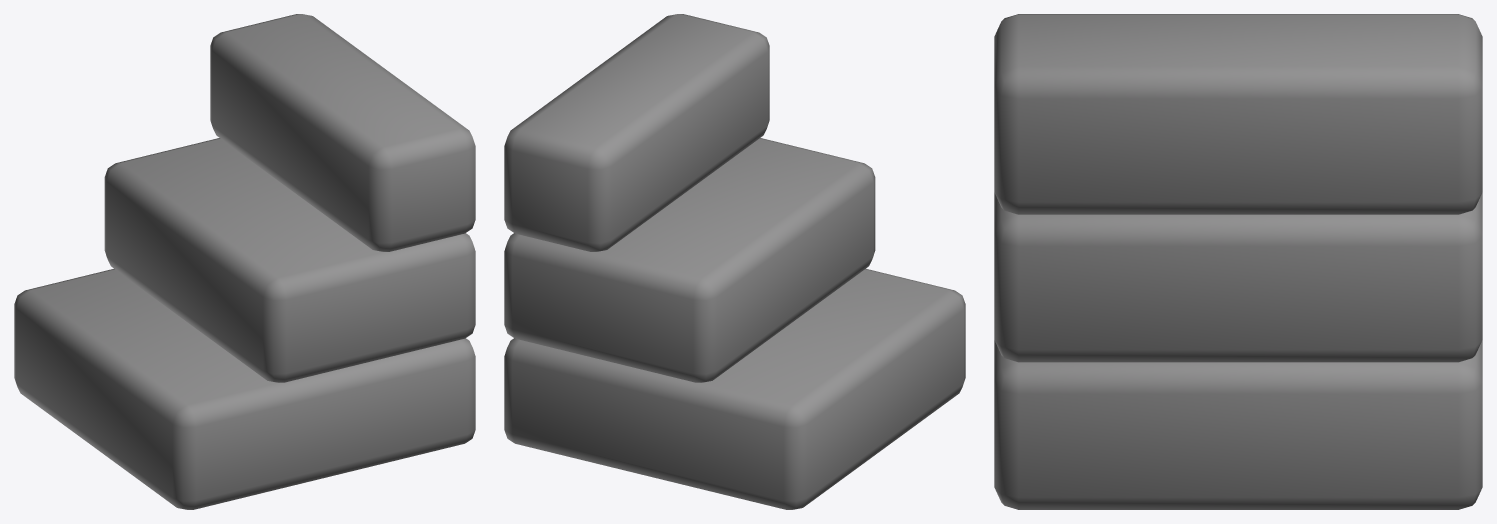
File: 3D_Tile_Dungeon_Stair_01.fbx
3 views of the same model, side by side, from view 1: azimuth 30°, elevation 25°; view 2: azimuth 150°, elevation 25°; view 3: azimuth 270°, elevation 25° (orthographic). The views are drawn at different scales.
Parts seen in each view (by area): view 1: 3D_Tile_Dungeon_Stair_01; view 2: 3D_Tile_Dungeon_Stair_01; view 3: 3D_Tile_Dungeon_Stair_01.
Boxes of the visible parts, <box> form: 3D_Tile_Dungeon_Stair_01: <box>14,14,475,509</box>; 3D_Tile_Dungeon_Stair_01: <box>504,14,965,509</box>; 3D_Tile_Dungeon_Stair_01: <box>994,14,1482,509</box>.
Size of the model in its own units: 200 by 200 by 200.
